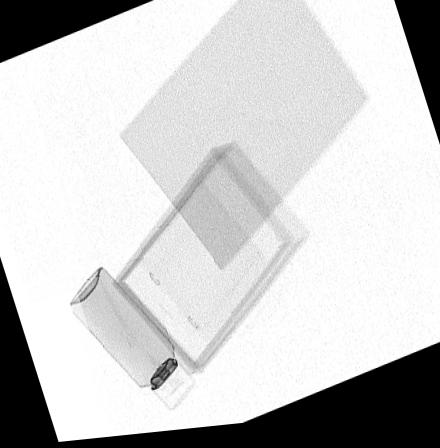Sprayer: (69, 267, 196, 412)
